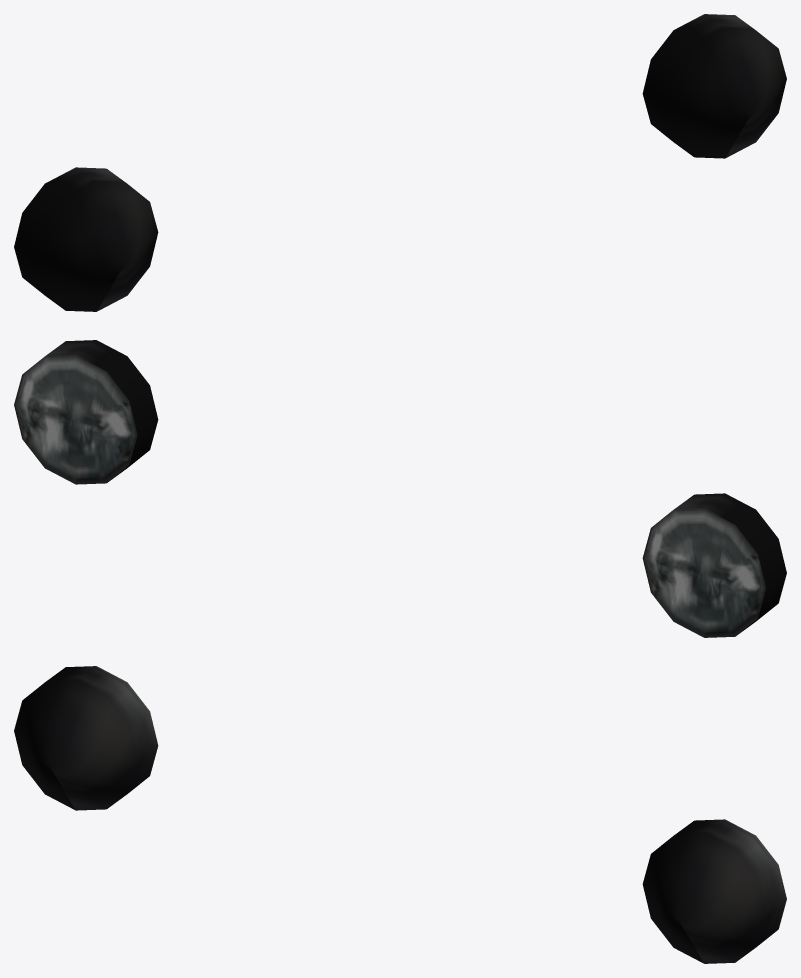
The model's file is lgt_b_rspt.glb.
3 views of the same model, one above another, from view 1: azimuth 30°, elevation 25°; view 2: azimuth 150°, elevation 25°; view 3: azimuth 330°, elevation 25° (orthographic).
Parts seen in each view (by area): view 1: lgt_b_rspt; view 2: lgt_b_rspt; view 3: lgt_b_rspt.
Boxes of the visible parts, x1,y1,x2,y2 form: lgt_b_rspt: (14,14,786,311); lgt_b_rspt: (14,340,786,637); lgt_b_rspt: (14,666,786,963).
Bounding box in the file's own units: 1.61 × 0.2638 × 0.1751.
Materials: 2 (2 with a texture image).
